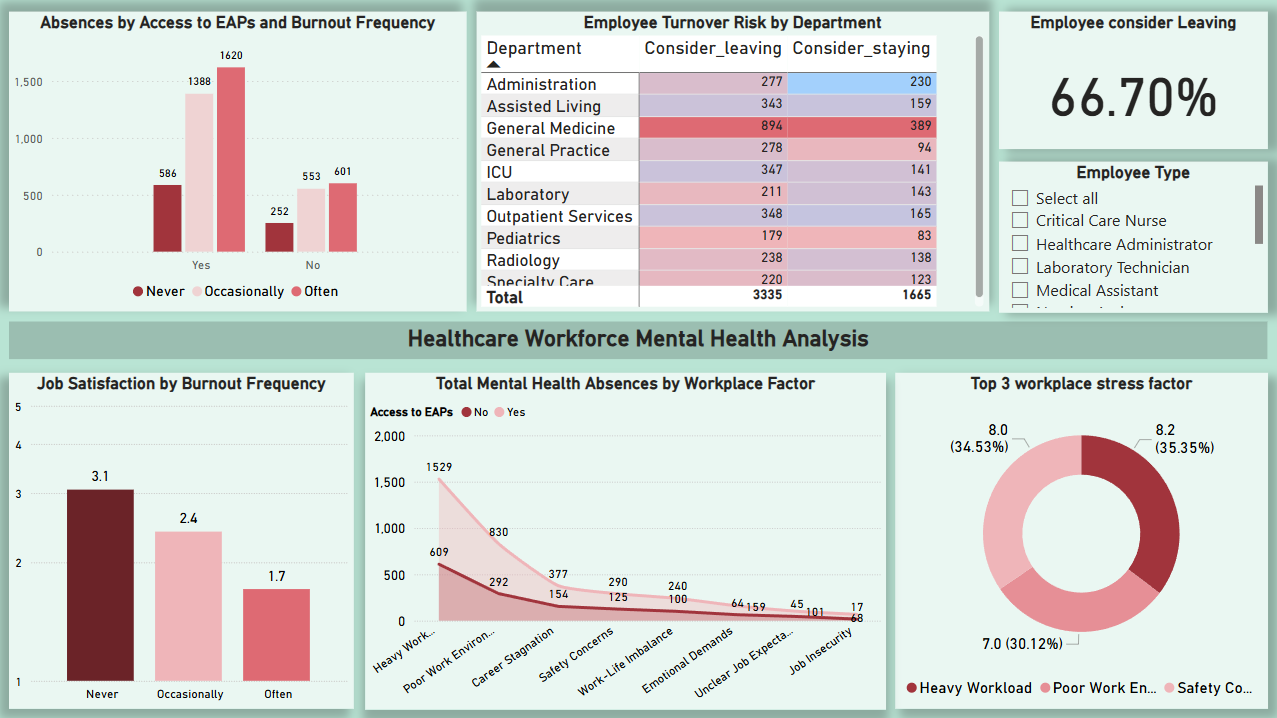

What the dashboard file says about the page in this screenshot:
{"tool":"powerbi","page":{"name":"Page 1","canvas":[1280,720],"ordinal":0},"visuals":[{"type":"textbox","title":"Healthcare Workforce Mental Health Analysis","box":[10,322.5,1258.8,37.5],"z":0},{"type":"donutChart","title":"Top 3 workplace stress factor","fields":{"Category":["Healthcare Workforce Mental Health Dataset.Workplace Factor"],"Y":["Healthcare Workforce Mental Health Dataset.AVG Stress Level"]},"box":[896.2,373.8,372.5,336.2],"z":1000},{"type":"lineChart","title":"Total Mental Health Absences by Workplace Factor","fields":{"Category":["Healthcare Workforce Mental Health Dataset.Workplace Factor"],"Y":["CountNonNull(Healthcare Workforce Mental Health Dataset.Mental Health Absences)"],"Series":["Healthcare Workforce Mental Health Dataset.Access to EAPs"]},"box":[366.3,373.3,520.7,336.8],"z":2000},{"type":"columnChart","title":"Job Satisfaction by Burnout Frequency","fields":{"Category":["Healthcare Workforce Mental Health Dataset.Burnout Frequency"],"Y":["Healthcare Workforce Mental Health Dataset.Avg Job Satisfaction"]},"box":[10,373.8,345,336.2],"z":3000},{"type":"pivotTable","title":"Employee Turnover Risk by Department","fields":{"Rows":["Healthcare Workforce Mental Health Dataset.Department"],"Values":["Healthcare Workforce Mental Health Dataset.Employee_leaving","Healthcare Workforce Mental Health Dataset.Employee_staying"]},"box":[477.5,12.5,512.5,300],"z":4000},{"type":"clusteredColumnChart","title":"Absences by Access to EAPs and Burnout Frequency","fields":{"Category":["Healthcare Workforce Mental Health Dataset.Access to EAPs"],"Series":["Healthcare Workforce Mental Health Dataset.Burnout Frequency"],"Y":["CountNonNull(Healthcare Workforce Mental Health Dataset.Mental Health Absences)"]},"box":[9.8,12.6,457.5,300.4],"z":5000},{"type":"slicer","title":"Employee Type","fields":{"Values":["Healthcare Workforce Mental Health Dataset.Employee Type"]},"box":[1000,162.5,268.8,151.2],"z":6000},{"type":"card","title":"Employee consider Leaving","fields":{"Values":["Healthcare Workforce Mental Health Dataset.Leaving Percnt"]},"box":[1000,12.5,268.8,137.5],"z":7000}]}

Visuals, with their boxes in screenshot pixels (x1, y1, x2, y2), scaled from the page's 1280x720 canvas onto the 1277x718 screenshot:
"Healthcare Workforce Mental Health Analysis" textbox: left=10, top=322, right=1266, bottom=359
"Top 3 workplace stress factor" donutChart: left=894, top=373, right=1266, bottom=708
"Total Mental Health Absences by Workplace Factor" lineChart: left=365, top=372, right=885, bottom=708
"Job Satisfaction by Burnout Frequency" columnChart: left=10, top=373, right=354, bottom=708
"Employee Turnover Risk by Department" pivotTable: left=476, top=12, right=988, bottom=312
"Absences by Access to EAPs and Burnout Frequency" clusteredColumnChart: left=10, top=13, right=466, bottom=312
"Employee Type" slicer: left=998, top=162, right=1266, bottom=313
"Employee consider Leaving" card: left=998, top=12, right=1266, bottom=150
